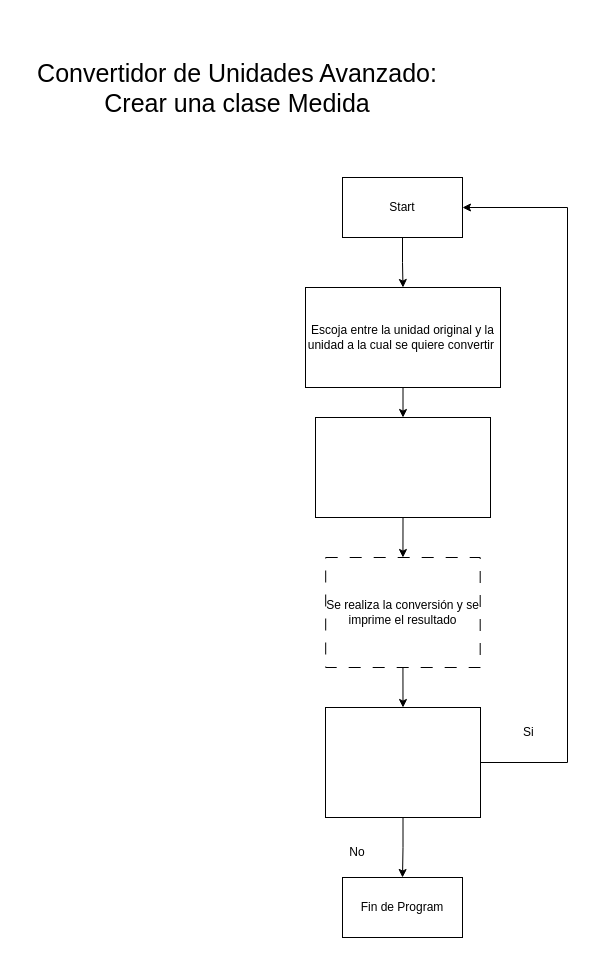
This 593x955 diagram has some shape labels left out. The shapes that lost their labels are listed below. From the top down, each one's centre as x and y in pixels, then its label:
At pixel 402 467: "Ingrese valor y unidad que se quiere convertir".
At pixel 402 762: "Desea haver otra conversion de medidas?".
